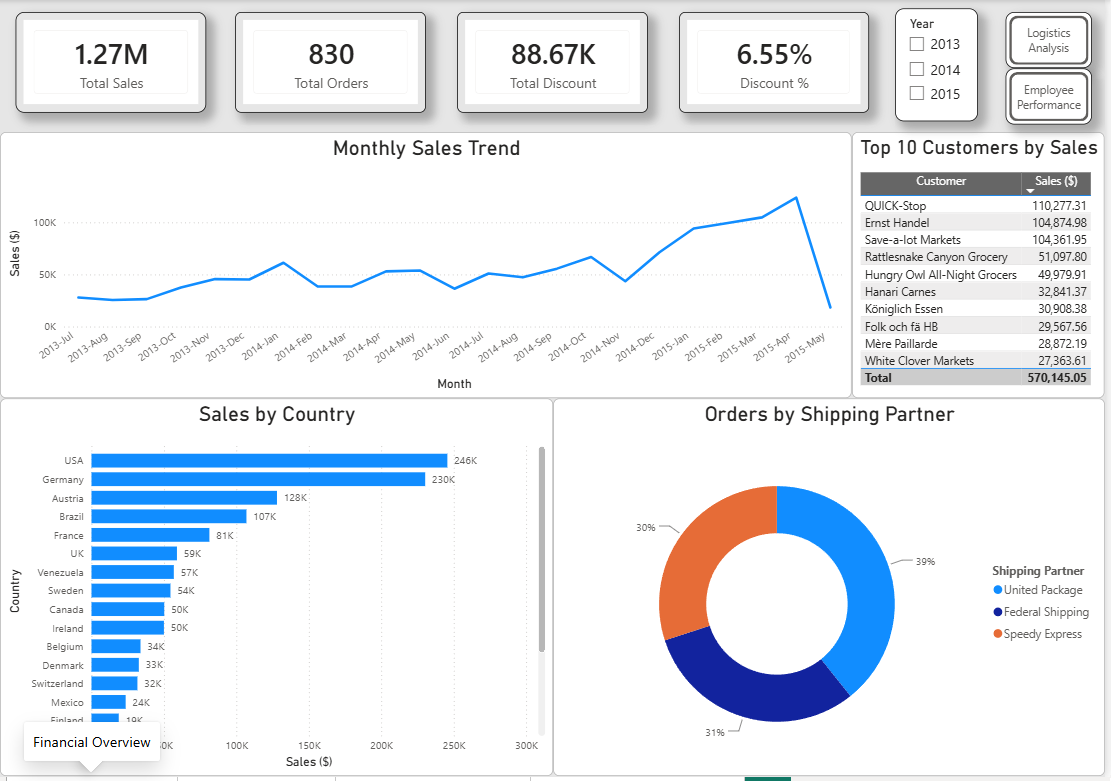

The dashboard page shown, as its layout file describes it:
{"tool":"powerbi","page":{"name":"Financial Overview","canvas":[1280,900],"ordinal":0},"visuals":[{"type":"lineChart","title":"Monthly Sales Trend","fields":{"Category":["DimDate.YearMonthName"],"Y":["_Measures.Total Sales"]},"box":[0,153.4,986.8,308.3],"z":0},{"type":"cardVisual","fields":{"Data":["_Measures.Total Sales"]},"box":[18.3,14.1,221,116.8],"z":1000},{"type":"cardVisual","fields":{"Data":["_Measures.Total Orders"]},"box":[272.5,13.9,221,116.8],"z":2000},{"type":"cardVisual","fields":{"Data":["_Measures.Total Discount"]},"box":[529.7,13.9,221,116.8],"z":3000},{"type":"cardVisual","fields":{"Data":["_Measures.Discount %"]},"box":[786.9,13.9,219.6,116.8],"z":4000},{"type":"tableEx","title":"Top 10 Customers by Sales","fields":{"Values":["Customers.companyName","_Measures.Total Sales"]},"box":[986.8,153.4,292.8,308.3],"z":5000},{"type":"clusteredBarChart","title":"Sales by Country","fields":{"Category":["Customers.country"],"Y":["_Measures.Total Sales"]},"box":[0,461.7,640.5,437.8],"z":6000},{"type":"donutChart","title":"Orders by Shipping Partner","fields":{"Category":["Shippers.companyName"],"Y":["_Measures.Total Orders"]},"box":[640.5,461.7,639.1,437.8],"z":7000},{"type":"actionButton","box":[1165,13.9,100.1,65.3],"z":8000},{"type":"slicer","fields":{"Values":["DimDate.Year"]},"box":[1037.1,9.7,95.9,130.7],"z":8001},{"type":"actionButton","box":[1165,79.2,100.1,65.3],"z":8002}]}

Visuals, with their boxes in screenshot pixels (x1, y1, x2, y2), scaled from the page's 1280x900 canvas onto the 1111x781 screenshot:
"Monthly Sales Trend" lineChart: {"left": 0, "top": 133, "right": 857, "bottom": 401}
cardVisual - _Measures.Total Sales: {"left": 16, "top": 12, "right": 208, "bottom": 114}
cardVisual - _Measures.Total Orders: {"left": 237, "top": 12, "right": 428, "bottom": 113}
cardVisual - _Measures.Total Discount: {"left": 460, "top": 12, "right": 652, "bottom": 113}
cardVisual - _Measures.Discount %: {"left": 683, "top": 12, "right": 874, "bottom": 113}
"Top 10 Customers by Sales" tableEx: {"left": 857, "top": 133, "right": 1110, "bottom": 401}
"Sales by Country" clusteredBarChart: {"left": 0, "top": 401, "right": 556, "bottom": 780}
"Orders by Shipping Partner" donutChart: {"left": 556, "top": 401, "right": 1110, "bottom": 780}
actionButton: {"left": 1011, "top": 12, "right": 1098, "bottom": 69}
slicer - DimDate.Year: {"left": 900, "top": 8, "right": 983, "bottom": 122}
actionButton: {"left": 1011, "top": 69, "right": 1098, "bottom": 125}
